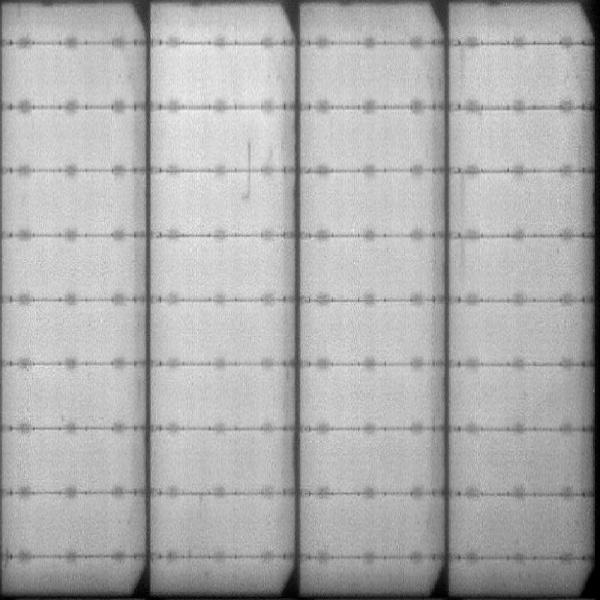scratch: (242, 136, 254, 196)
